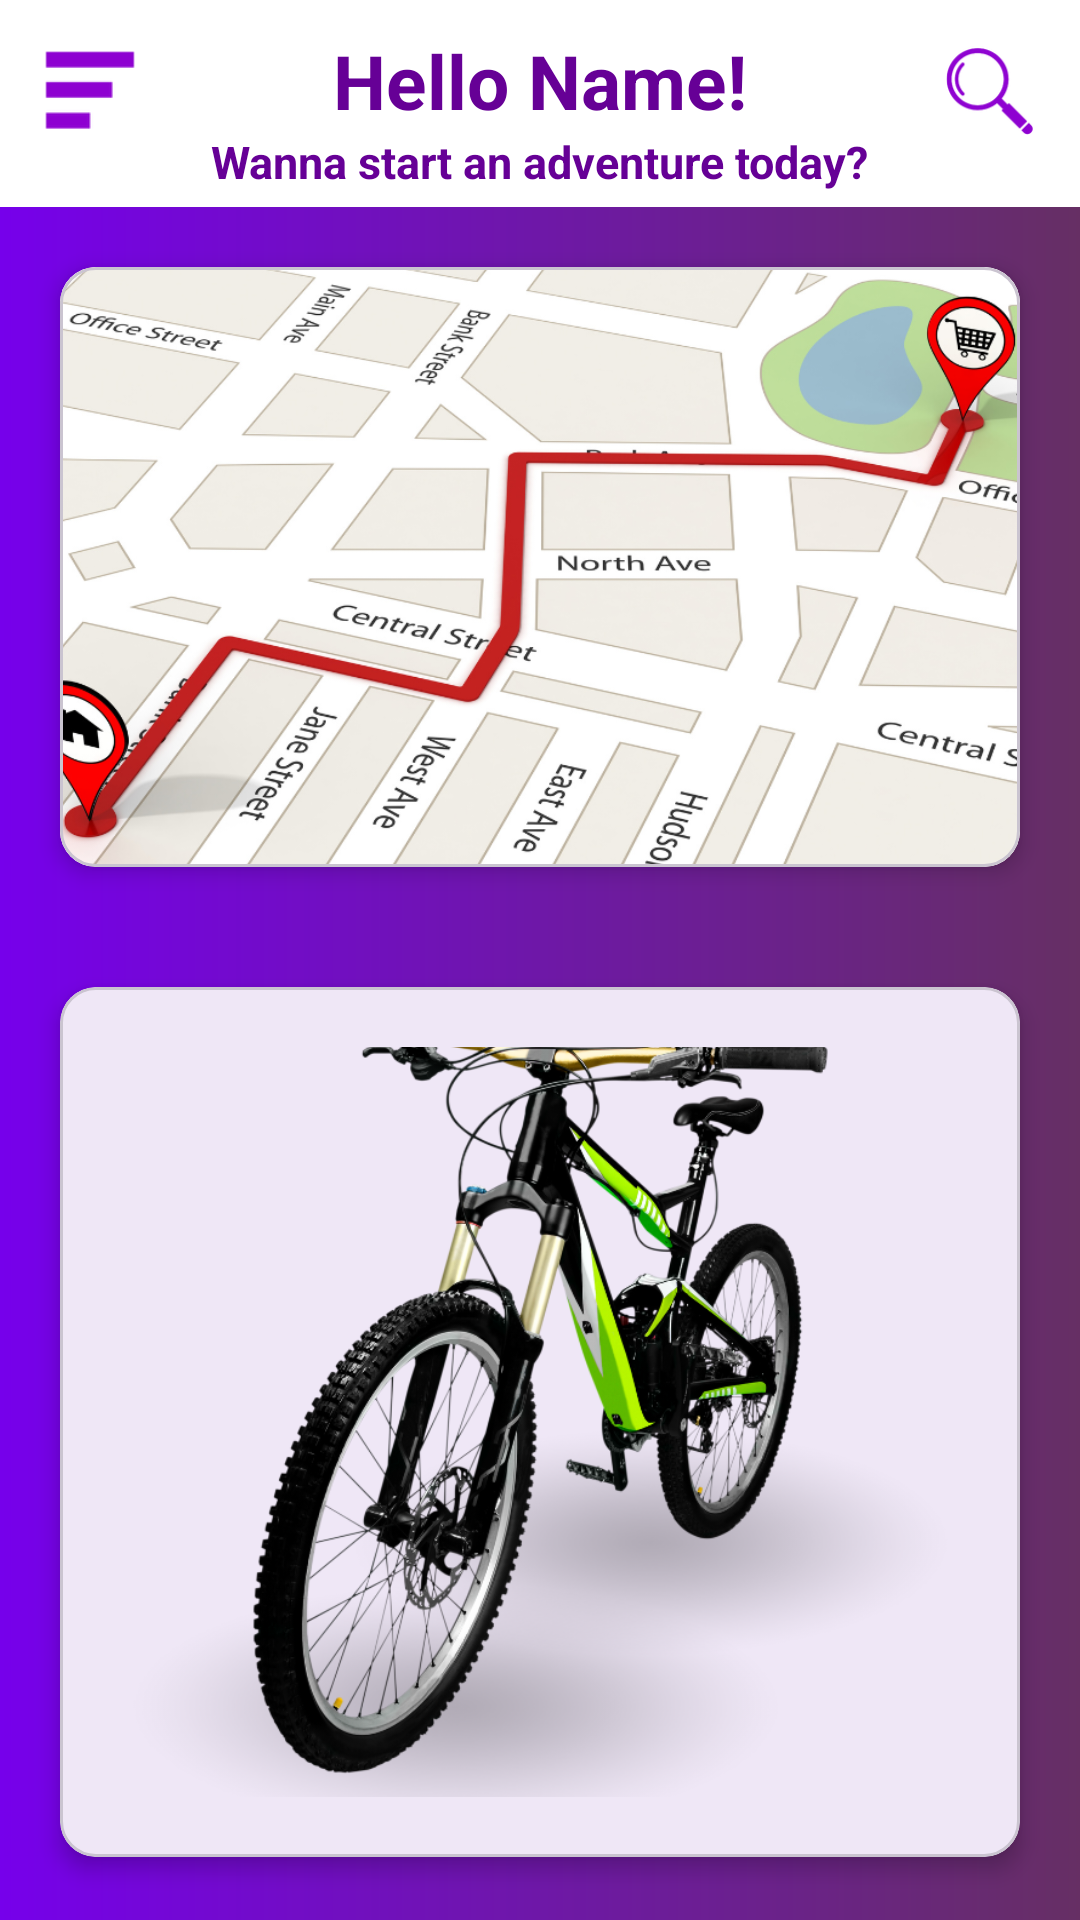

Point at icon controls on the screen. Image size 1080px x 1920px, points as point (x, y).
optionbutton: point (90, 90)
searchkey: point (989, 91)
